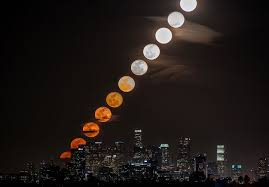moon: (129, 59, 148, 76)
